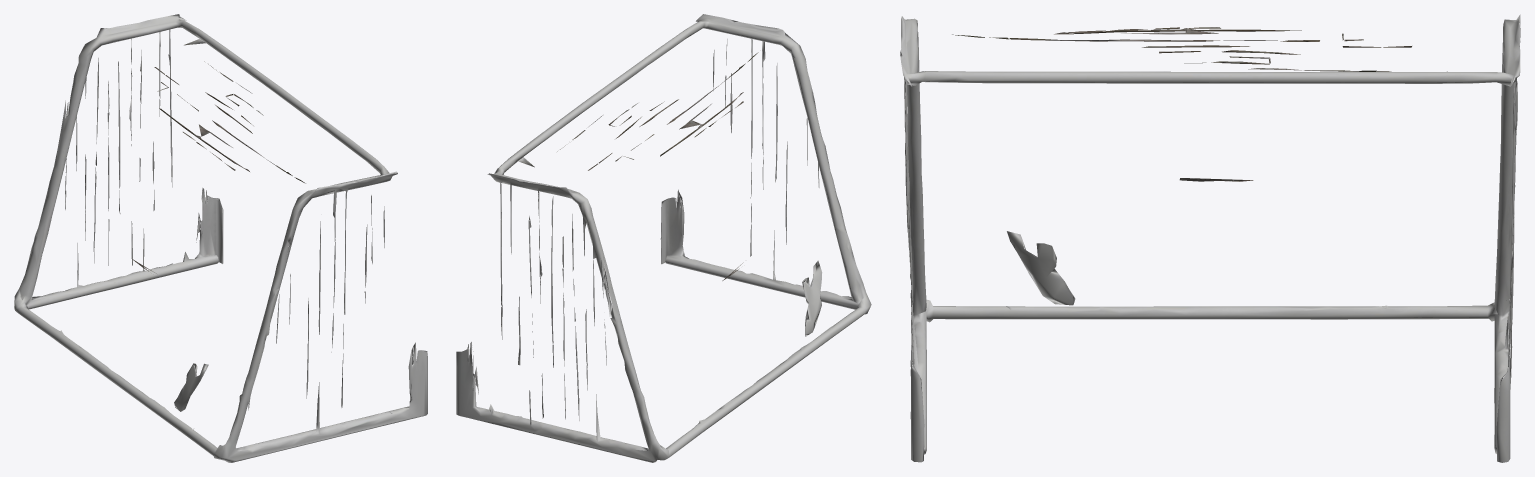
Rendered from prop_field-soccer-goal_3a2403.glb.
3 renders of one model, left to right at view 1: azimuth 30°, elevation 25°; view 2: azimuth 150°, elevation 25°; view 3: azimuth 270°, elevation 25°, orthographic. The views are drawn at different scales.
Parts seen in each view (by area): view 1: tripo_node_4dea710f-5e85-4335-9d1e-f93d8e3b914a; view 2: tripo_node_4dea710f-5e85-4335-9d1e-f93d8e3b914a; view 3: tripo_node_4dea710f-5e85-4335-9d1e-f93d8e3b914a.
Part boxes in pixels (x1=…): tripo_node_4dea710f-5e85-4335-9d1e-f93d8e3b914a: x1=14, y1=14, x2=427, y2=462; tripo_node_4dea710f-5e85-4335-9d1e-f93d8e3b914a: x1=456, y1=14, x2=871, y2=462; tripo_node_4dea710f-5e85-4335-9d1e-f93d8e3b914a: x1=900, y1=14, x2=1520, y2=462.
Size of the model in its own units: 0.5553 by 0.656 by 0.999.
1 material, 1 textured.
